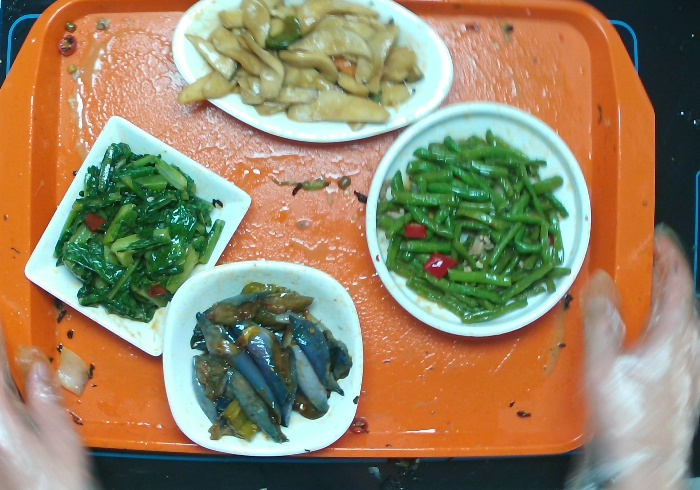HZYJPL-Si_Fang_Die: (20, 112, 254, 357)
HZYJPL-Si_Fang_Yuan_Die: (160, 260, 365, 460)
HZYJPL-Xiao_Yu_Die: (169, 4, 454, 144)
HZYJPL-Xiao_Yuan_Die: (361, 98, 593, 341)
